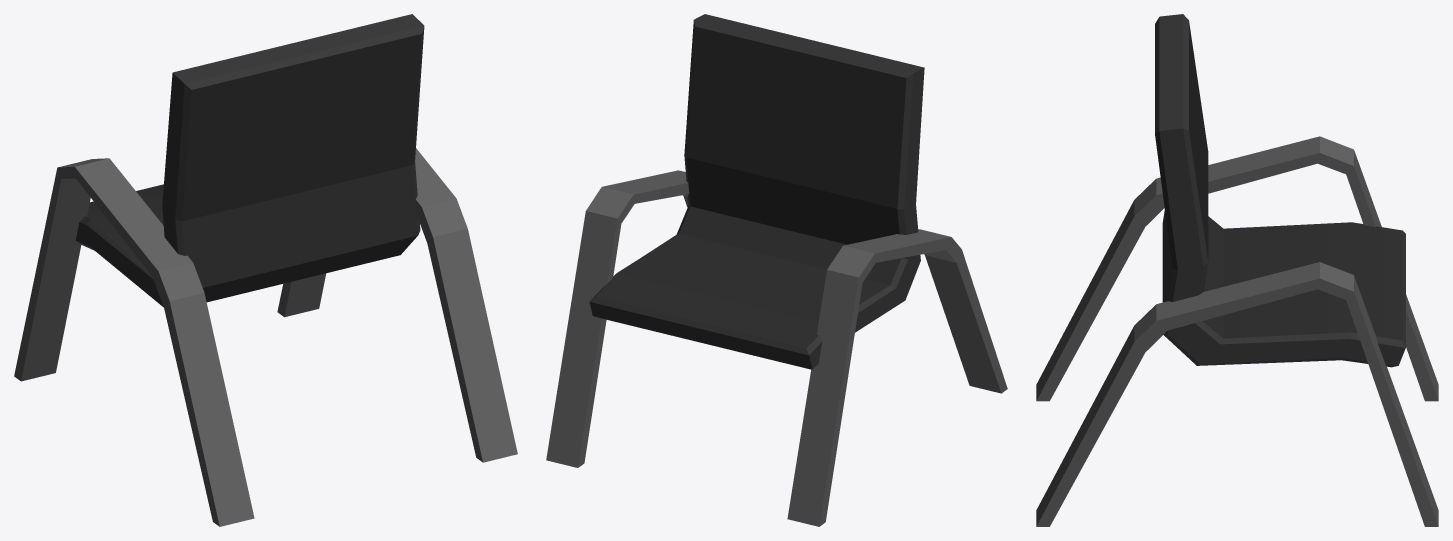
The model's file is chair_D.FBX.
3 renders of one model, left to right at view 1: azimuth 30°, elevation 25°; view 2: azimuth 150°, elevation 25°; view 3: azimuth 270°, elevation 25°, orthographic. The views are drawn at different scales.
Parts seen in each view (by area): view 1: chair_D; view 2: chair_D; view 3: chair_D.
Part boxes in pixels (<box>): chair_D: <box>14,14,517,526</box>; chair_D: <box>546,14,1007,526</box>; chair_D: <box>1036,14,1438,526</box>.
Bounding box in the file's own units: 34.05 × 42.87 × 40.7.
